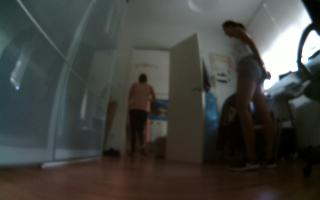person: (217, 17, 285, 173), (119, 66, 162, 160)
